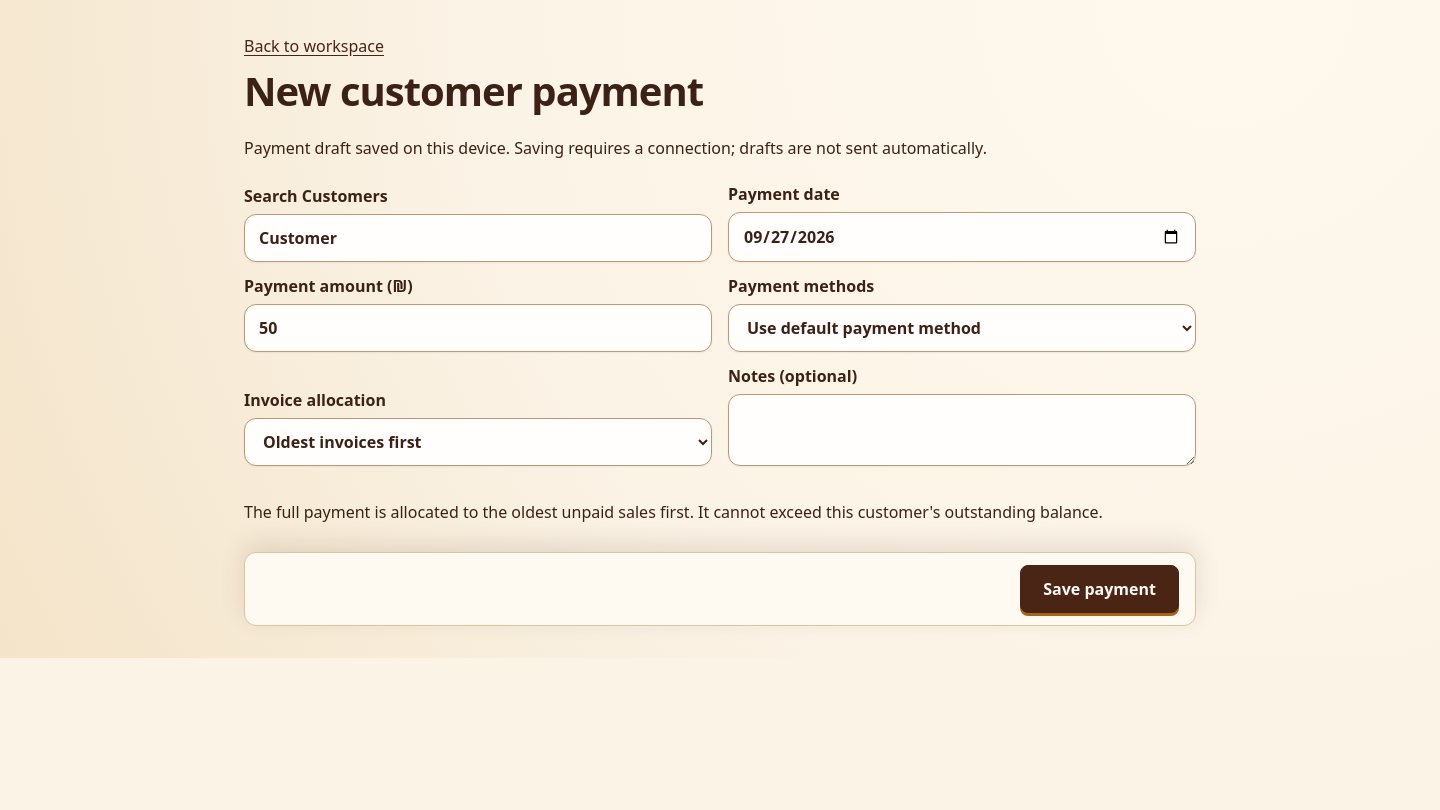
Test: overpayment rejection restores an editable draft without losing values
Step 1. Click the button "Save payment" → click(1100, 589), box [1020,565,1179,613]
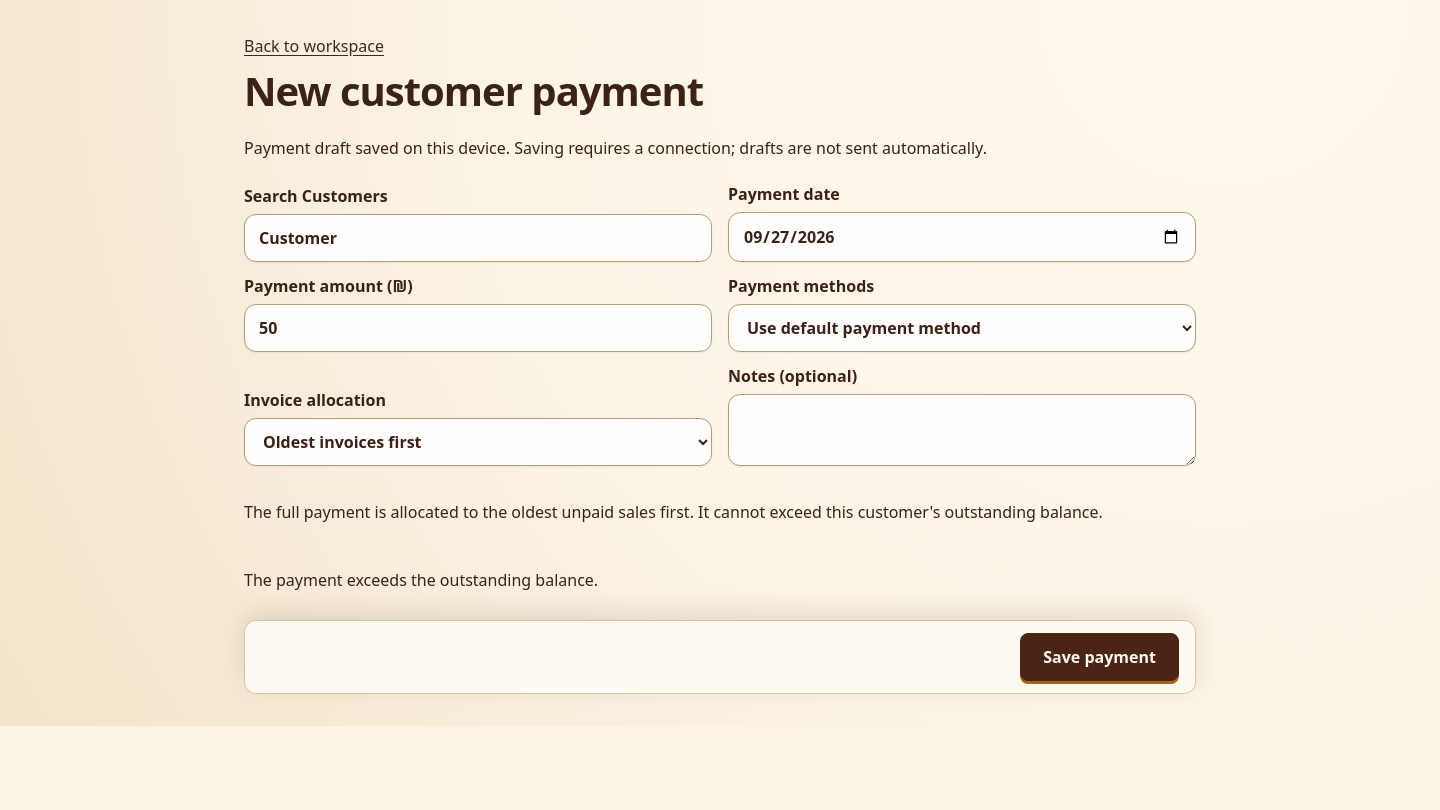
Expected: the button "Save payment" is enabled, [1020,633,1179,681]
Now the message shows "outstanding balance", box [244,569,598,591]
